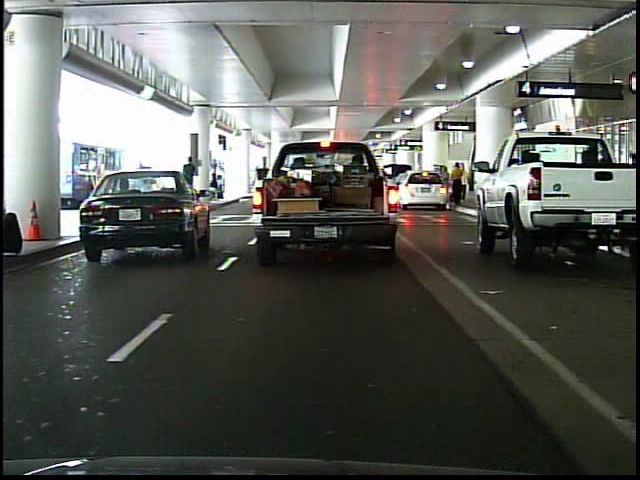person: (180, 153, 202, 209)
